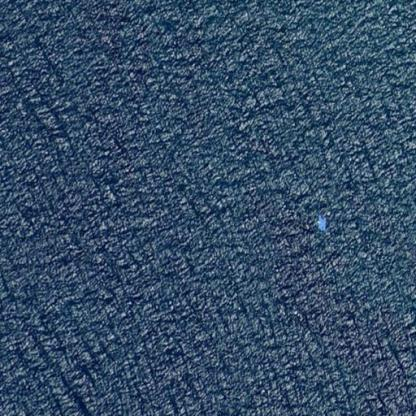ship: (317, 222, 326, 225)
